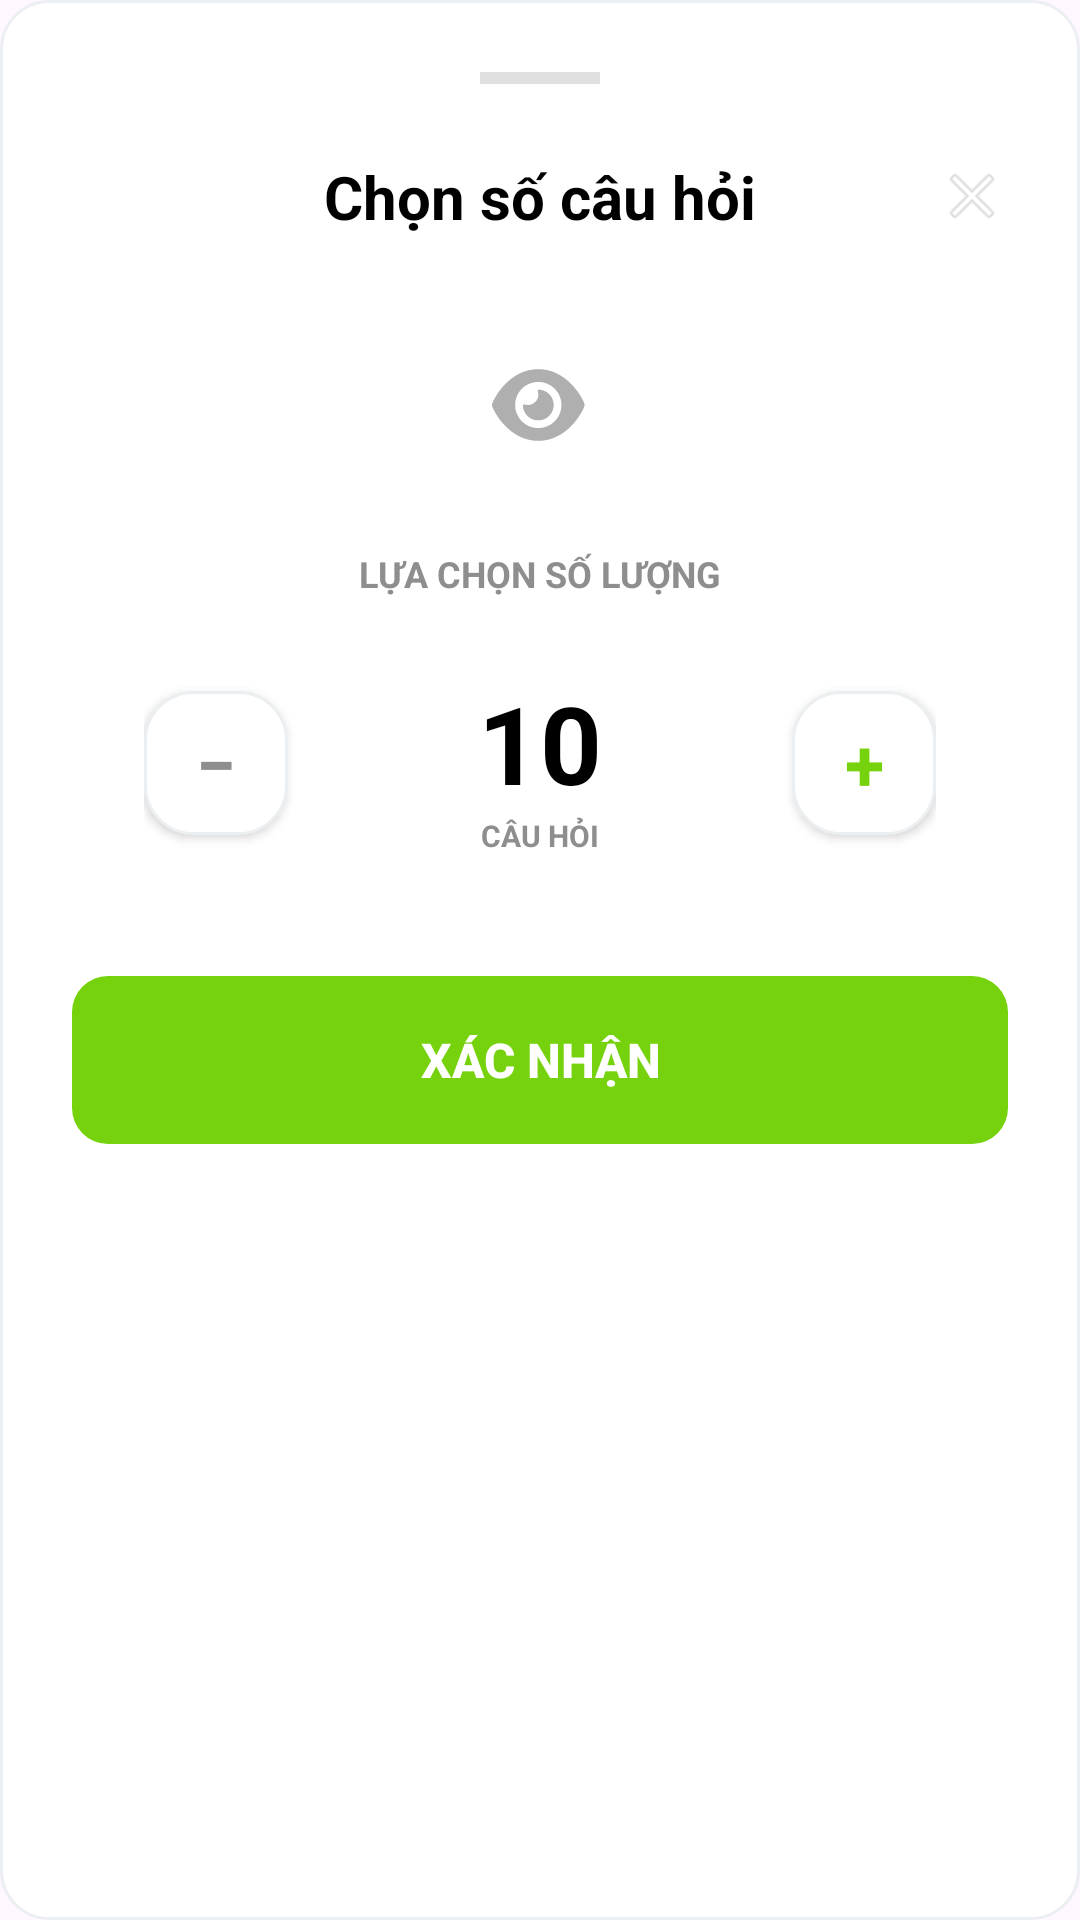

Named icons in this screenshot (1080*1920) and their centers, [x,y]:
close clear cancel: [972,196]
eye: [538,405]
